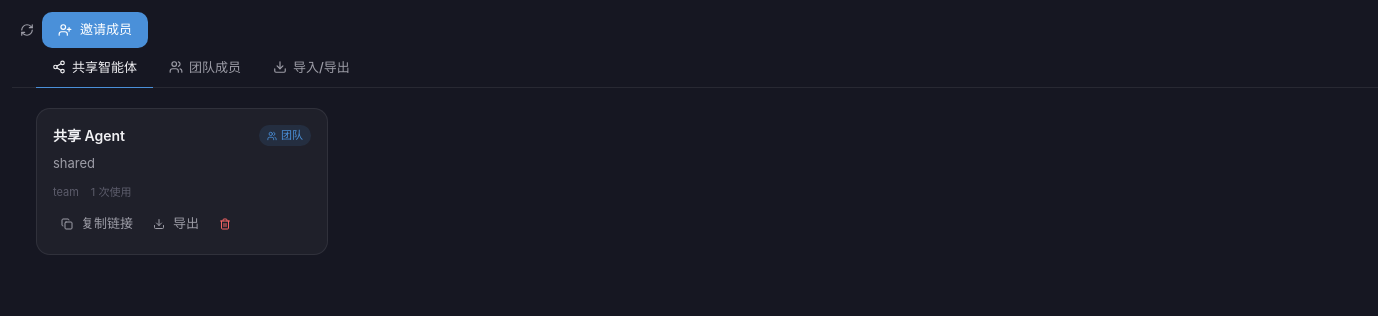
Test: TeamView › clears the old error banner after deleting a shared agent succeeds following a previous failure
What coordinates should you click on to do the following:
click the button without text below "team"
I would click on:
 (225, 224)
Its box is left=211, top=210, right=239, bottom=238.
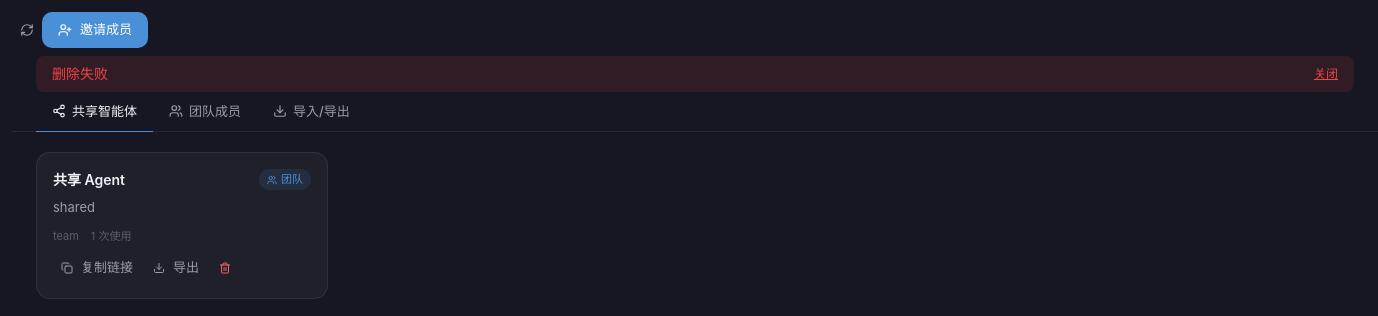
Check: the text "删除失败" is shown, box left=52, top=64, right=108, bottom=84
What coordinates should you click on to do the following:
click the button without text below "team"
I would click on:
 (225, 268)
Its box is left=211, top=254, right=239, bottom=282.
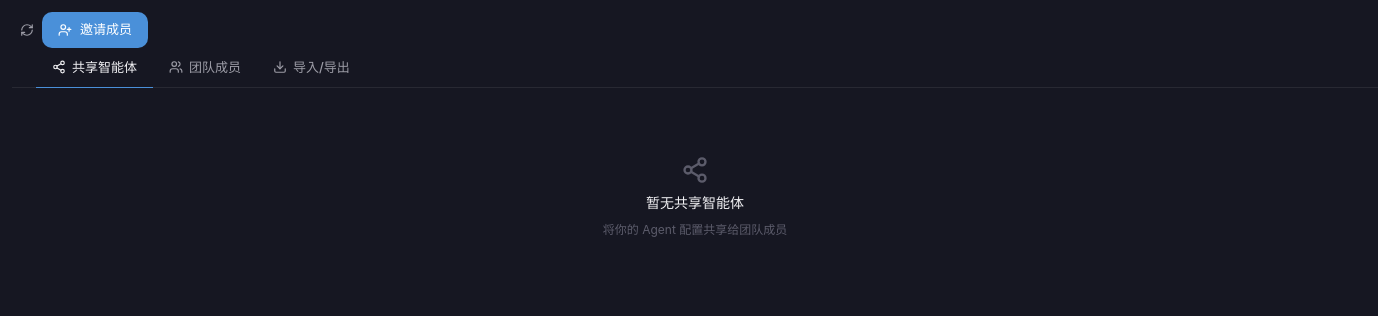
Check: the text "删除失败" is gone
Check: the text "共享 Agent" is gone
